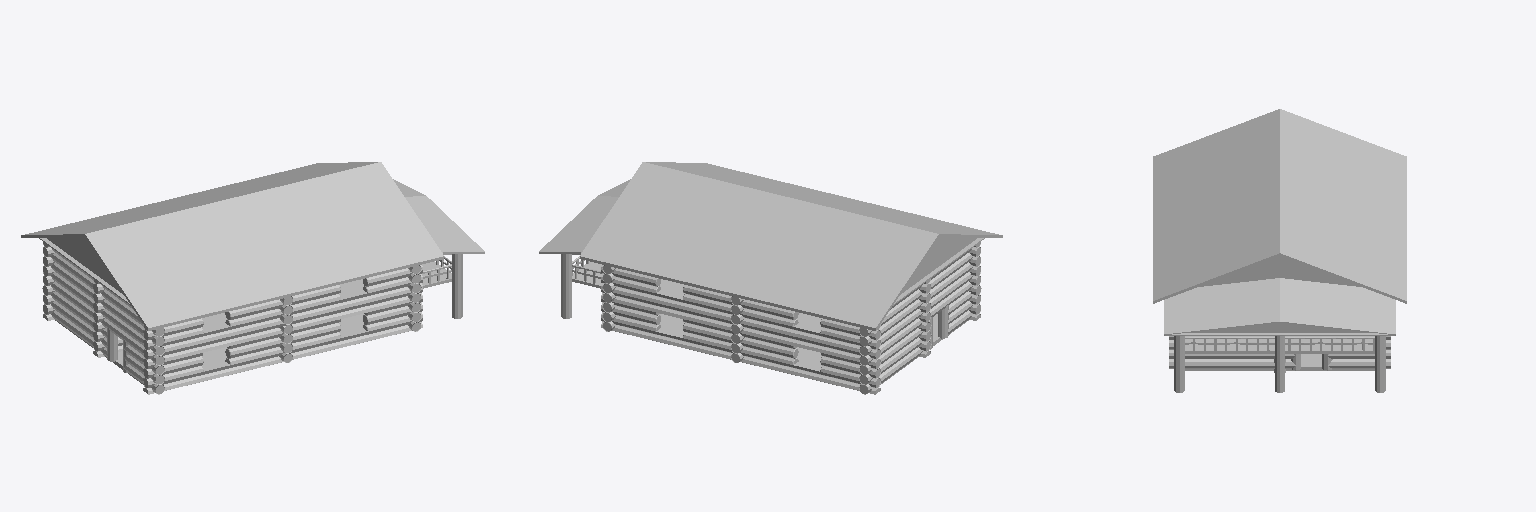
File: LogCabinPlayer.obj
3 views of the same model, side by side, from view 1: azimuth 30°, elevation 25°; view 2: azimuth 150°, elevation 25°; view 3: azimuth 270°, elevation 25° (orthographic).
Parts seen in each view (by area): view 1: House; view 2: House; view 3: House.
Part boxes in pixels (left/top/right/bottom): House: left=21, top=162, right=484, bottom=394; House: left=539, top=162, right=1002, bottom=394; House: left=1153, top=109, right=1406, bottom=392.
Bounding box in the file's own units: 37.36 × 13.3 × 24.